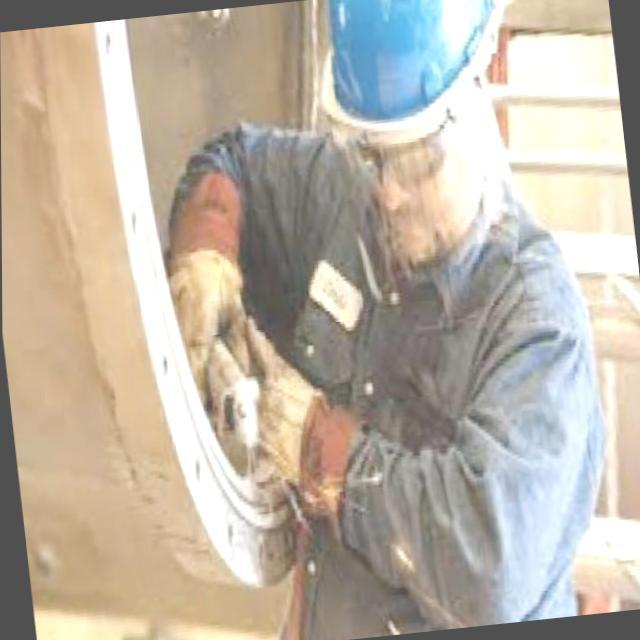goggles_on: (329, 101, 476, 195)
